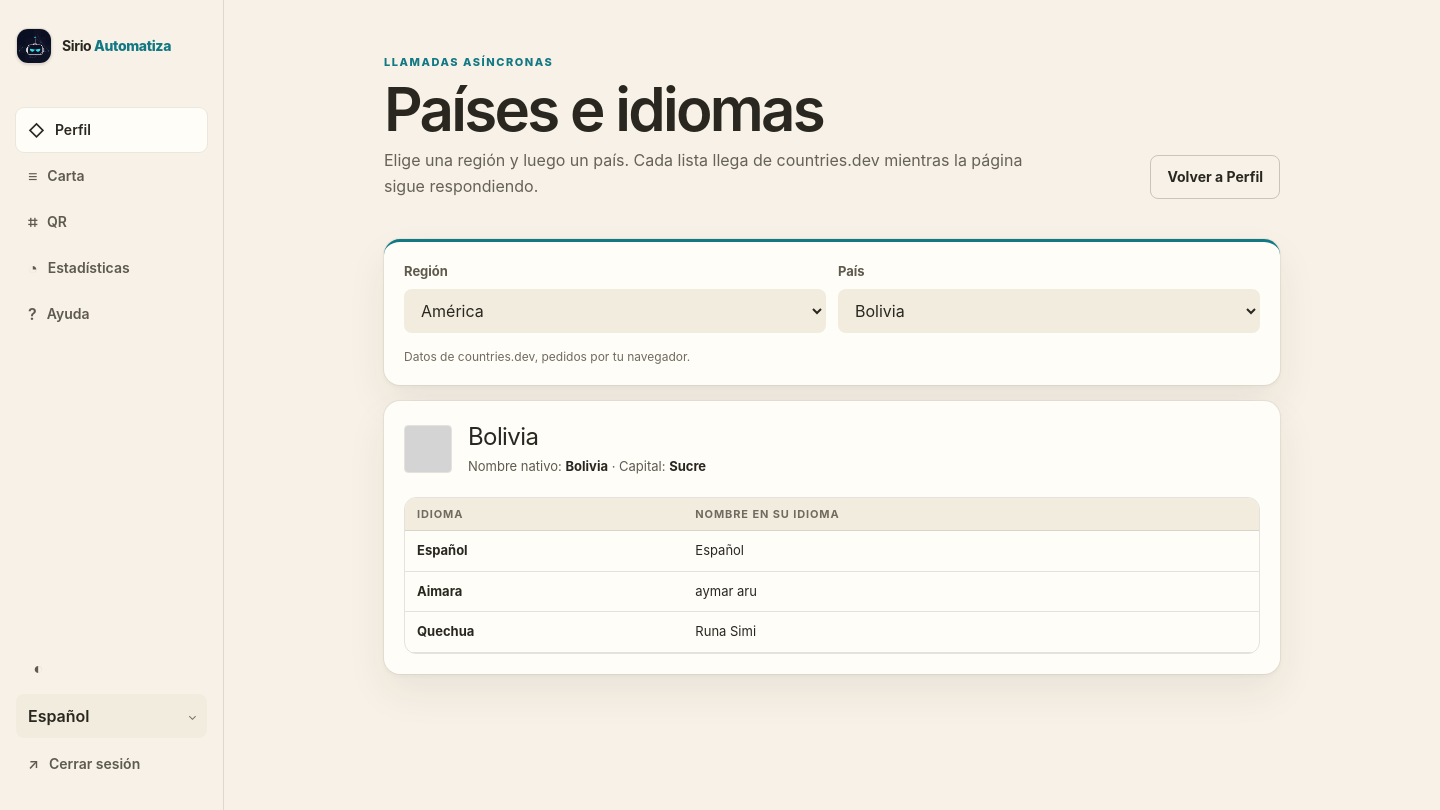
Test: CountriesExplorer › remembers the choice on this device and asks again in the same order
Expected: the table named "Idiomas de Bolivia" is shown, [405,498,1259,653]
Expected: the dropdown labelled "País" shows "Bolivia", [838,289,1260,333]
Select "África" in the dropdown labelled "Región": (615, 311) [404,289,826,333]
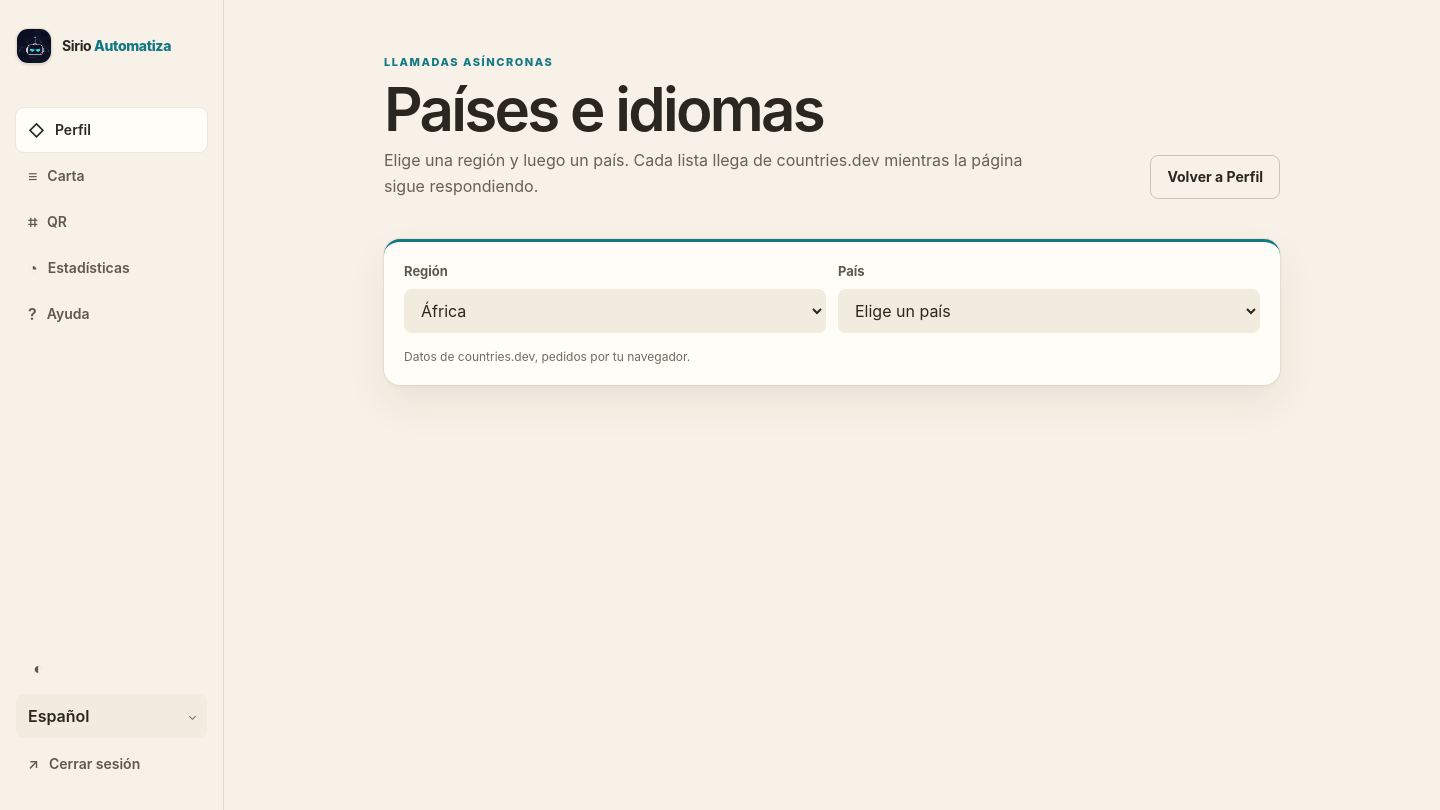
Expected: the table is gone
